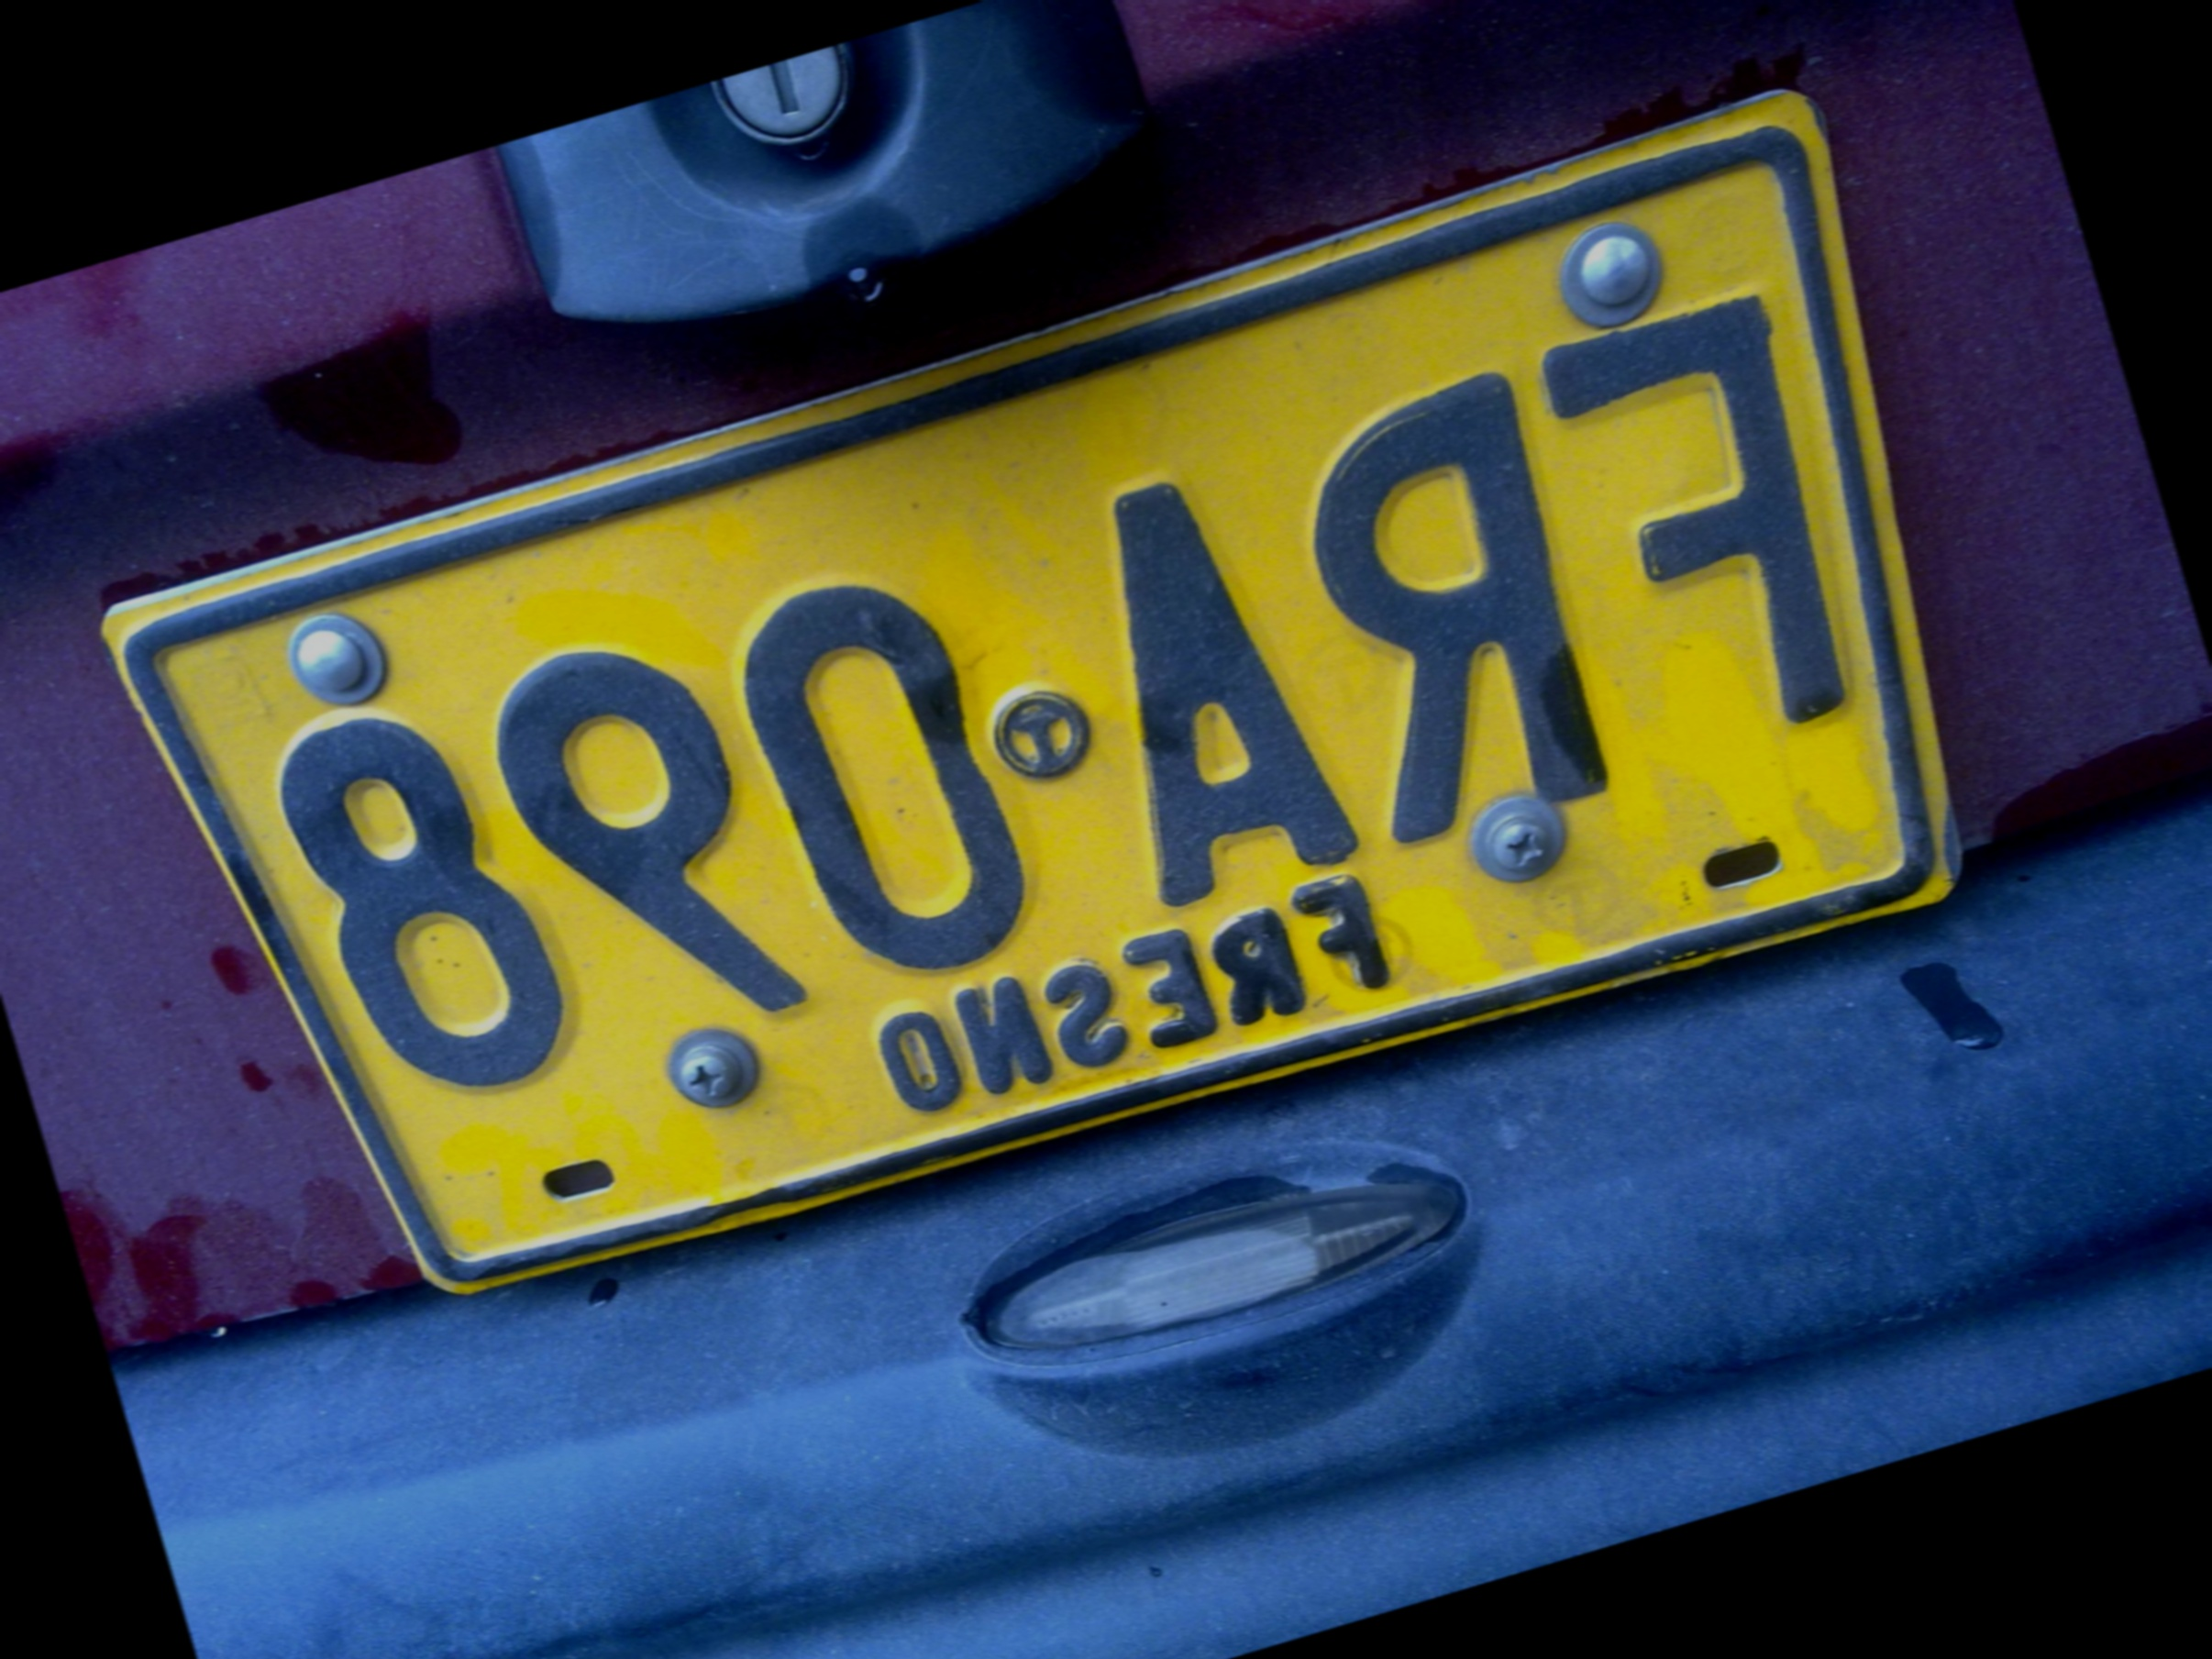placas: (80, 56, 2060, 1390)
